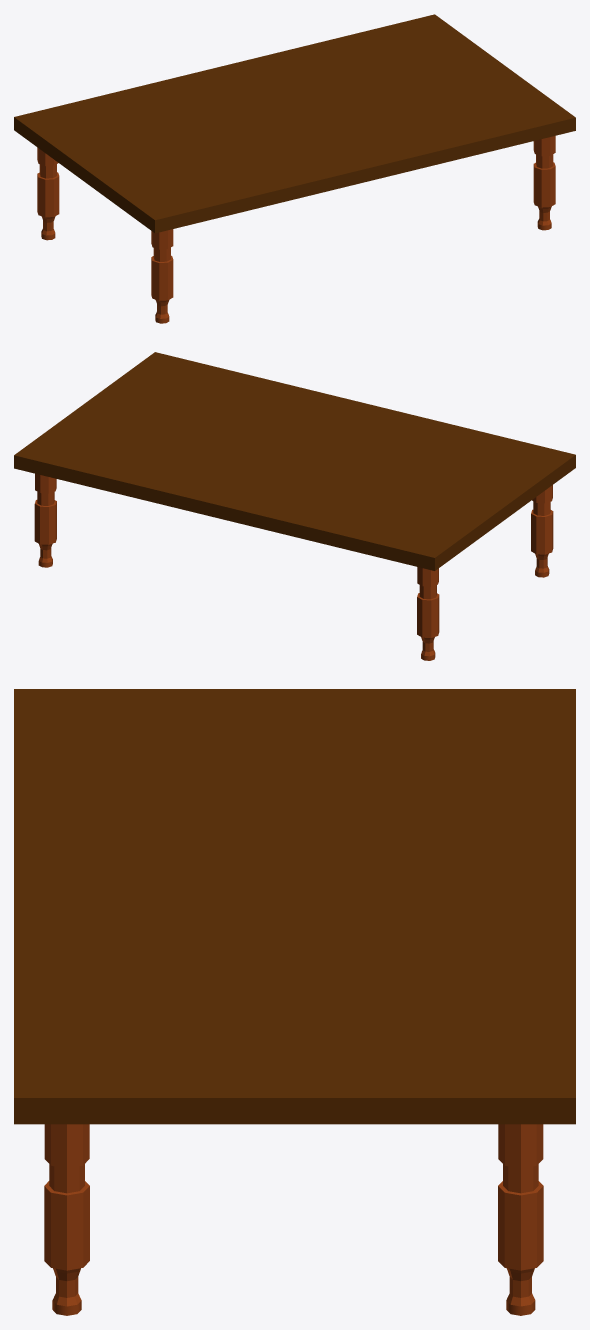
File: Table.FBX
3 views of the same model, one above another, from view 1: azimuth 30°, elevation 25°; view 2: azimuth 150°, elevation 25°; view 3: azimuth 270°, elevation 25° (orthographic). The views are drawn at different scales.
Visible parts, largest first — view 1: Box001, Cylinder004, Cylinder003, Cylinder002; view 2: Box001, Cylinder002, Cylinder001, Cylinder004; view 3: Box001, Cylinder001, Cylinder003.
Part boxes in pixels (x1,y1,x2,y2): Box001: [14, 14, 575, 233]; Cylinder004: [151, 229, 173, 323]; Cylinder003: [533, 136, 555, 230]; Cylinder002: [37, 147, 59, 240]; Box001: [14, 352, 575, 570]; Cylinder002: [417, 567, 439, 660]; Cylinder001: [34, 473, 56, 567]; Cylinder004: [531, 485, 553, 577]; Box001: [14, 689, 575, 1124]; Cylinder001: [498, 1124, 543, 1315]; Cylinder003: [44, 1124, 89, 1315].
Size of the model in its own units: 157 by 91.35 by 41.11.
1 material, 1 textured.
